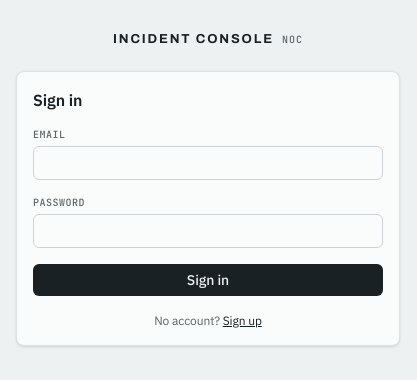
Test: LoginPage › shows the server's error message on invalid credentials, without guessing which field was wrong
The image size is (417, 380).
Step 1. Type "operator@example.com" into the field labelled "Email" → (208, 162), box [33,146,383,180]
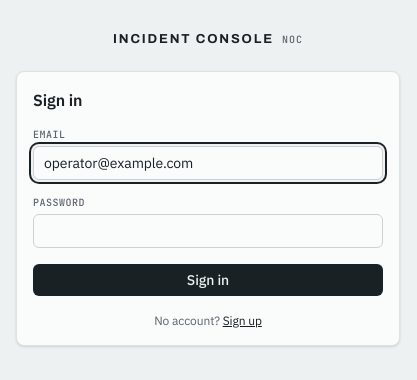
Step 2. Type "wrong-password" into the password field labelled "Password" → (208, 230), box [33,214,383,248]
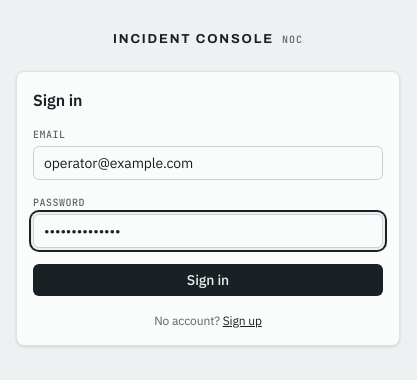
Step 3. Click the button "Sign in" → click(208, 280), box [33,264,383,296]
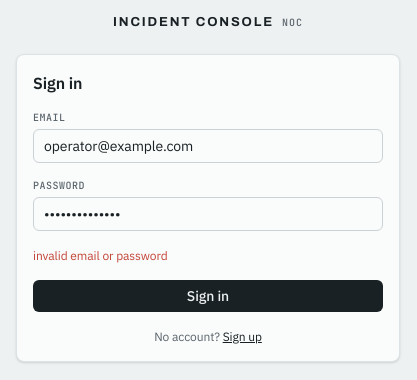
Expected: the message reads "invalid email or password", [33,248,168,263]
